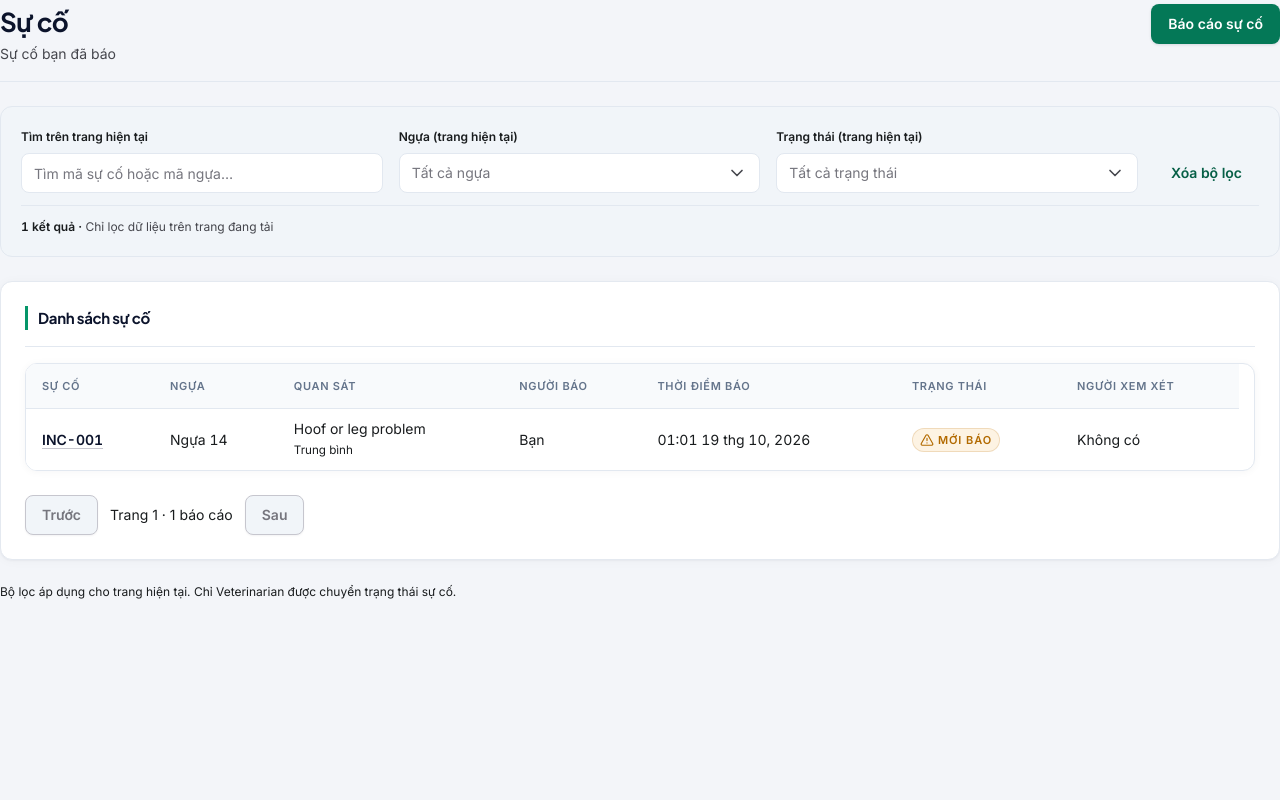
opens the existing canonical report modal and cancels without a write
The image size is (1280, 800).
Expected: the link "INC-001" is shown, [42,431,103,448]
Click the button "Báo cáo sự cố" at {"x": 1216, "y": 24}, box [1151,4,1279,44]
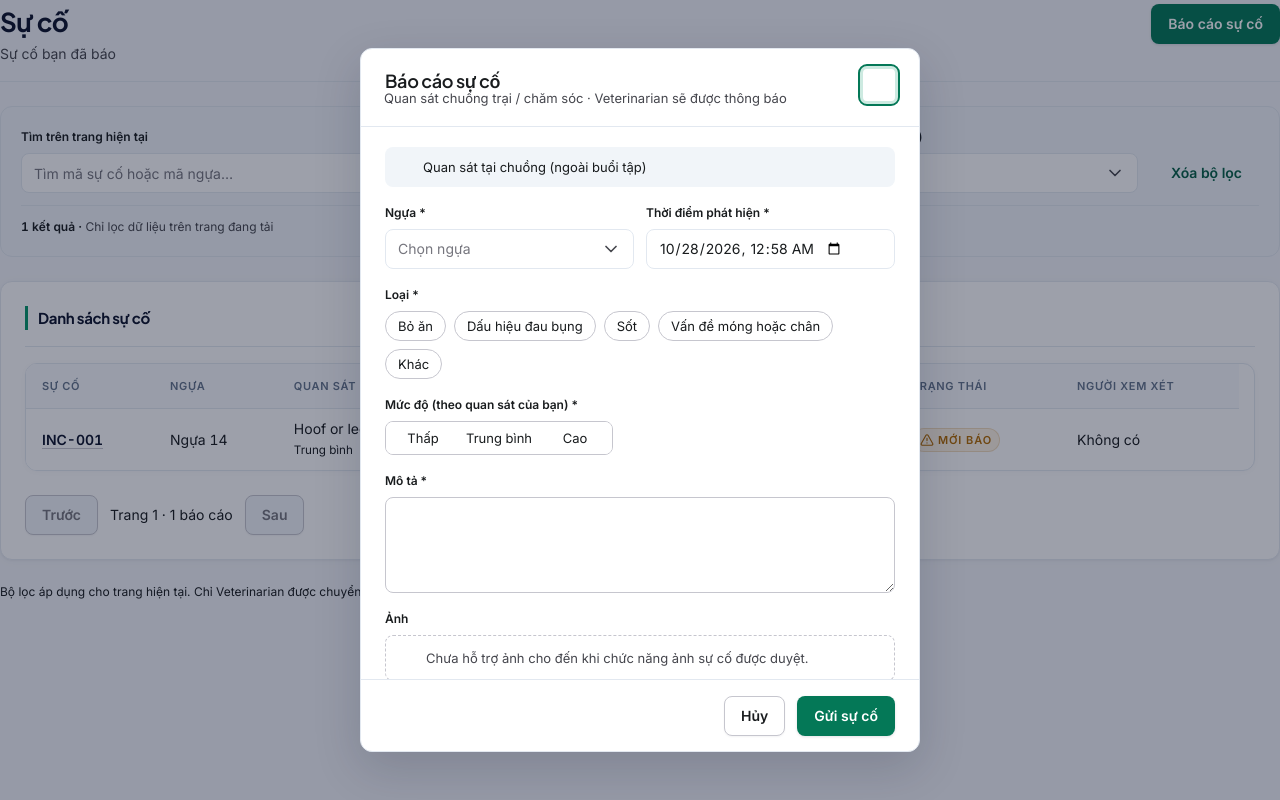
Expected: the dialog is shown, [360,48,920,752]
Click the button "Hủy" at {"x": 755, "y": 716}, box [724,696,785,736]
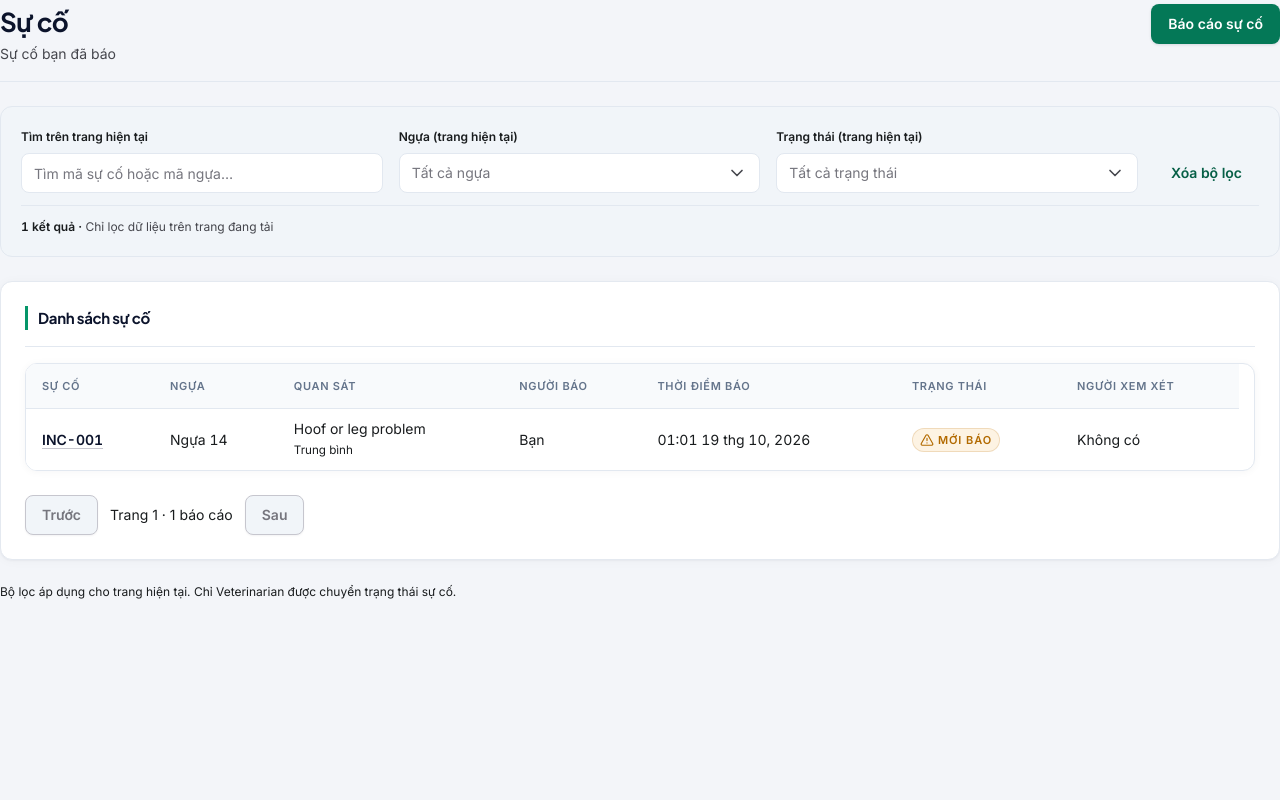
Expected: the dialog is gone
